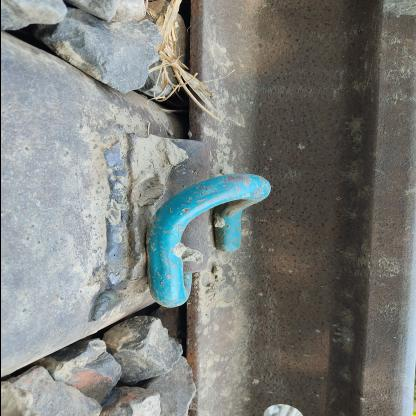Non Defective 1: (75, 115, 310, 347)
